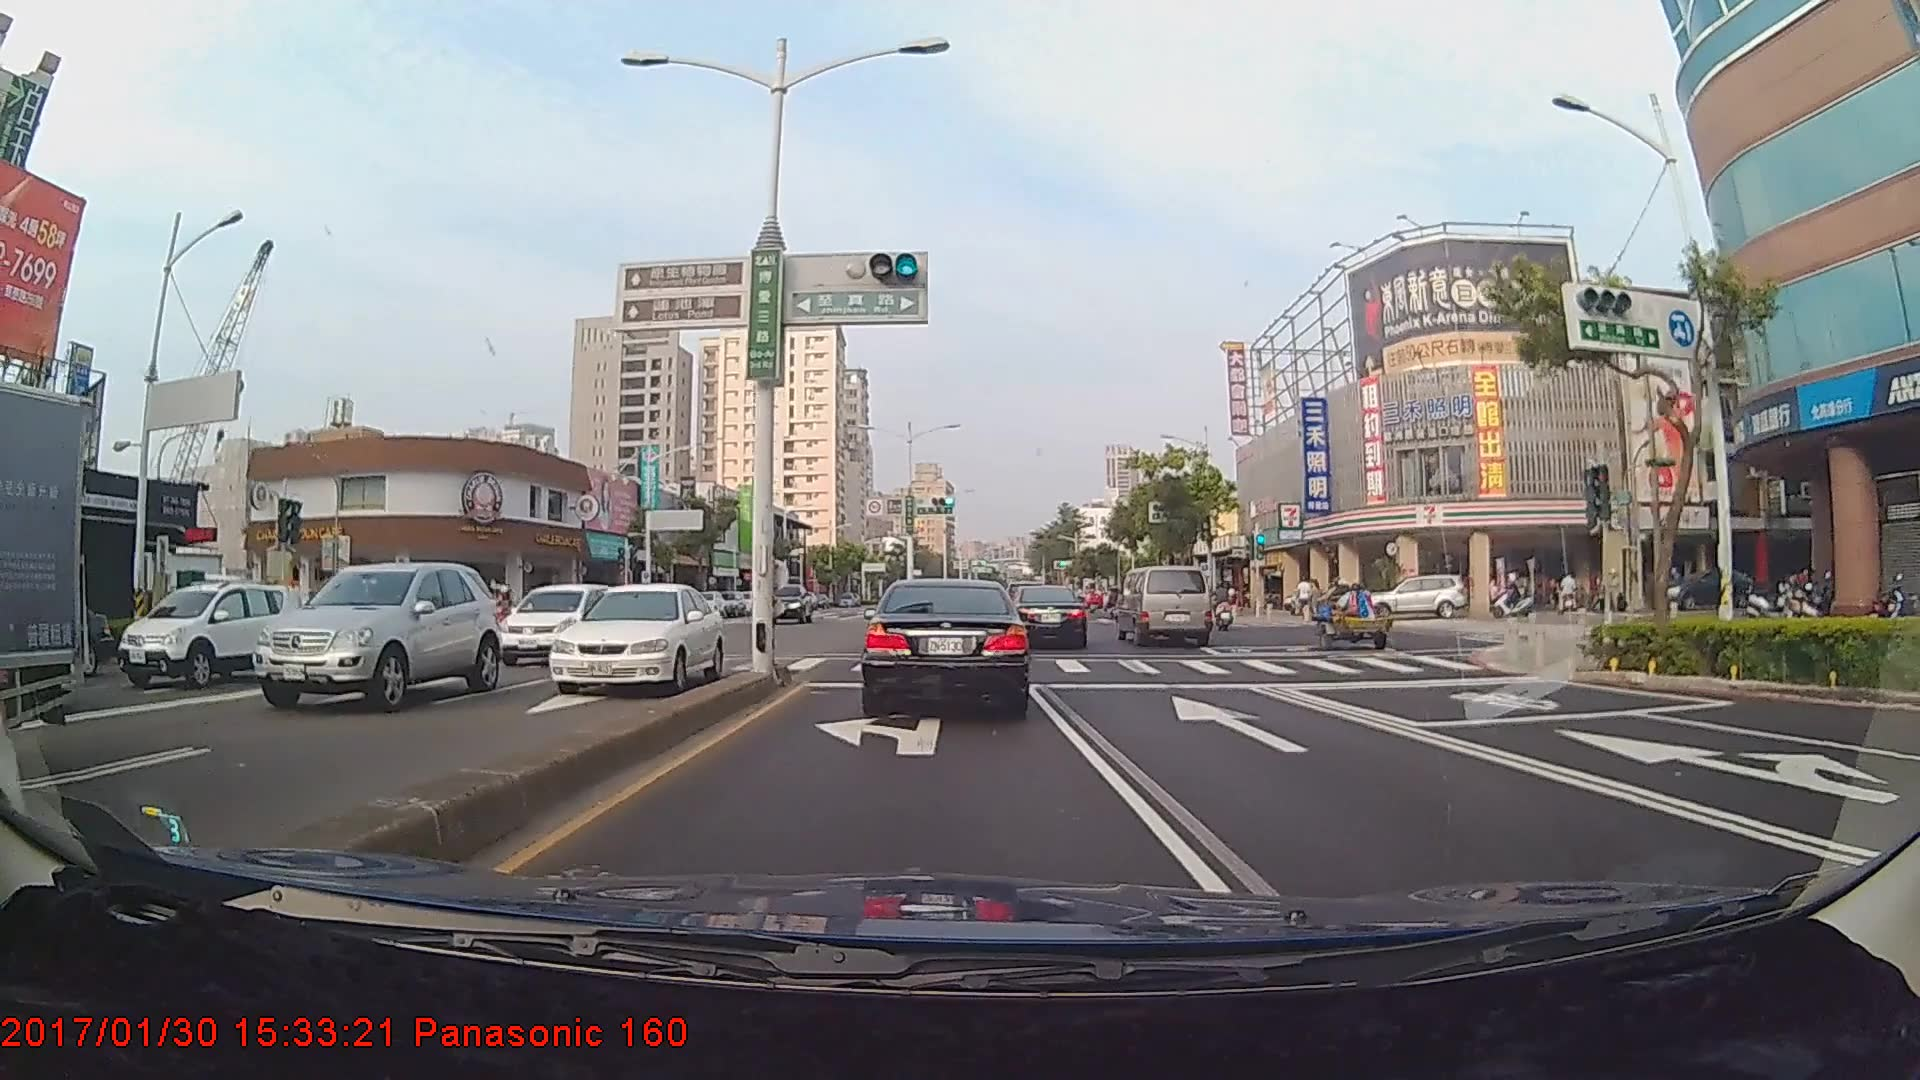rider: (483, 582, 521, 640), (1207, 581, 1241, 635)
vehicle: (230, 555, 490, 713), (0, 380, 96, 727), (865, 575, 1030, 718), (538, 580, 730, 697), (125, 574, 288, 692), (493, 582, 624, 663), (1116, 563, 1213, 648), (10, 599, 114, 678), (1011, 585, 1088, 650), (1375, 572, 1470, 622)
